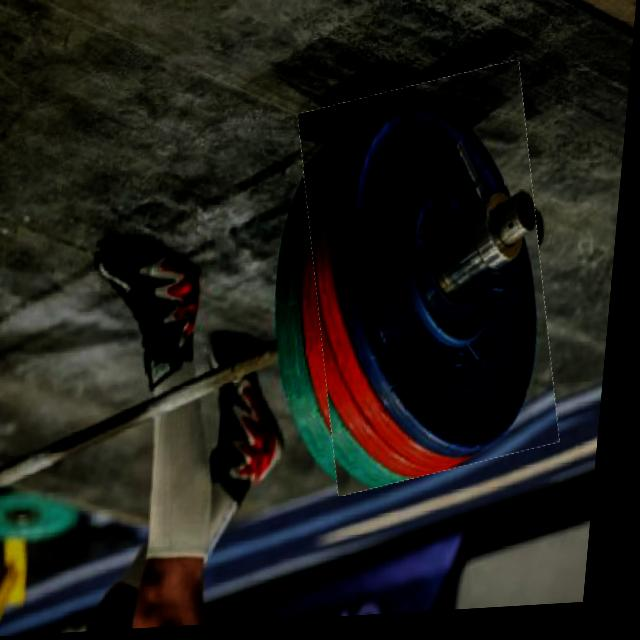barbell: (292, 73, 578, 496)
